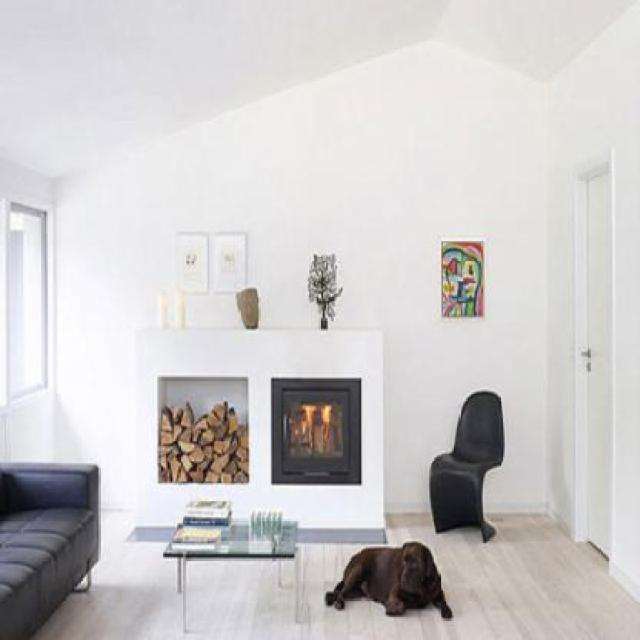Fire: (290, 402, 336, 444)
